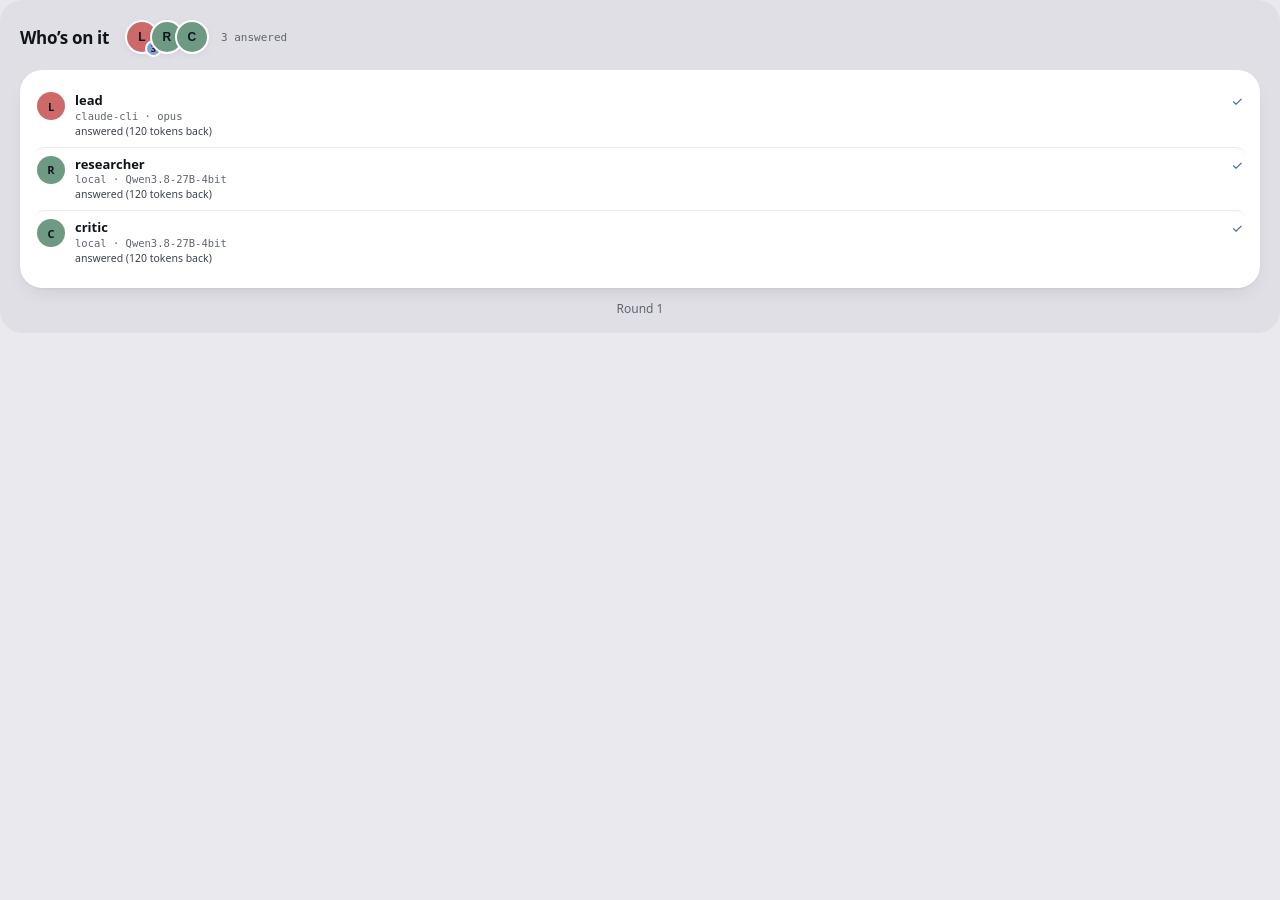
Test: clicking a coworker opens what THAT coworker is doing › opens the RIGHT one — a second agent’s panel shows the second agent
Click the button named "What researcher is doing" at x=172, y=37, box left=159, top=20, right=184, bottom=54
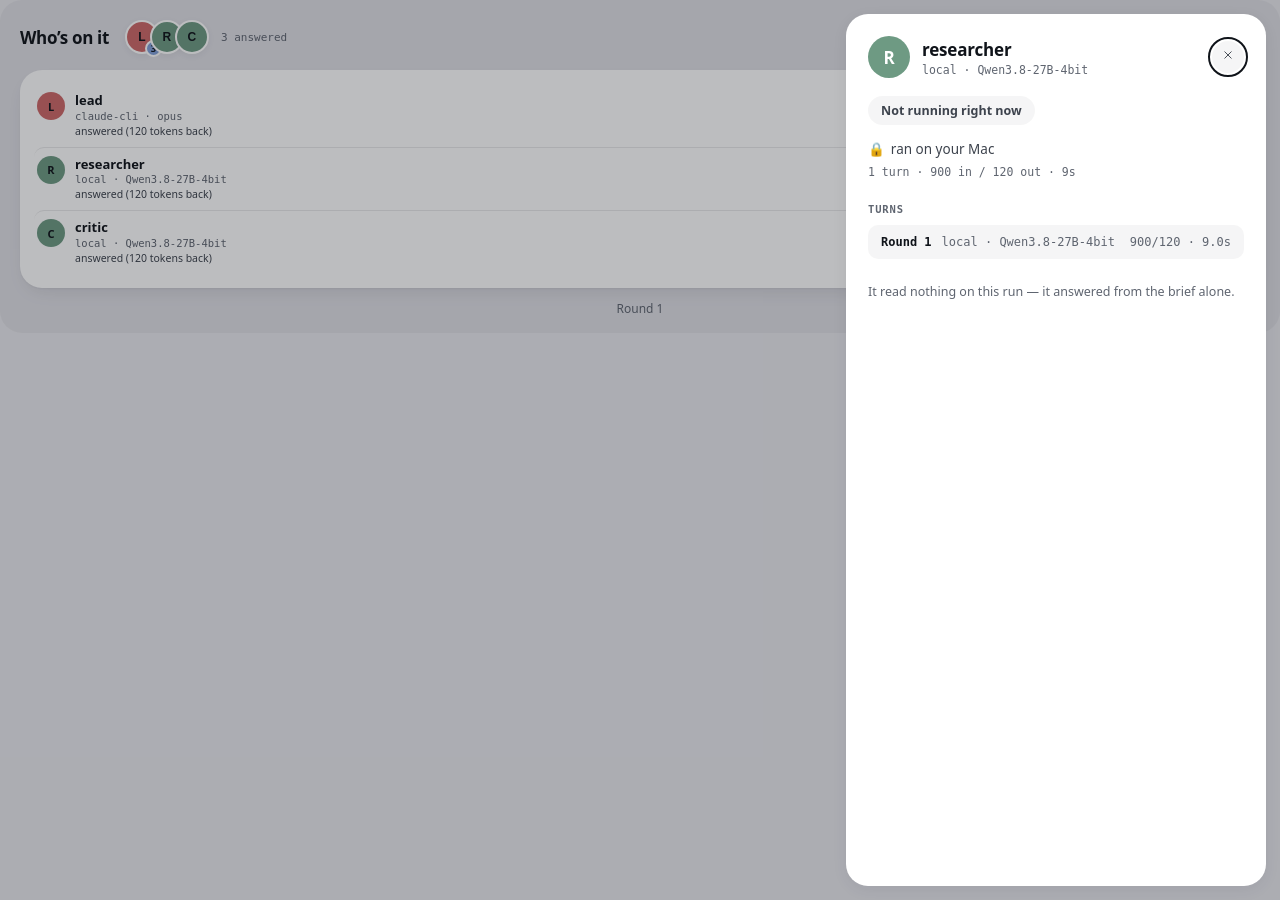
Check: the dialog "What researcher is doing" does not show "opus"
Check: the dialog named "What researcher is doing" shows "Qwen3.8-27B-4bit", box left=922, top=62, right=1088, bottom=76
